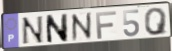5: (122, 9, 141, 38)
F: (95, 10, 118, 40)
N: (70, 11, 95, 43), (45, 13, 69, 45), (21, 15, 45, 47)
Q: (143, 7, 169, 37)
